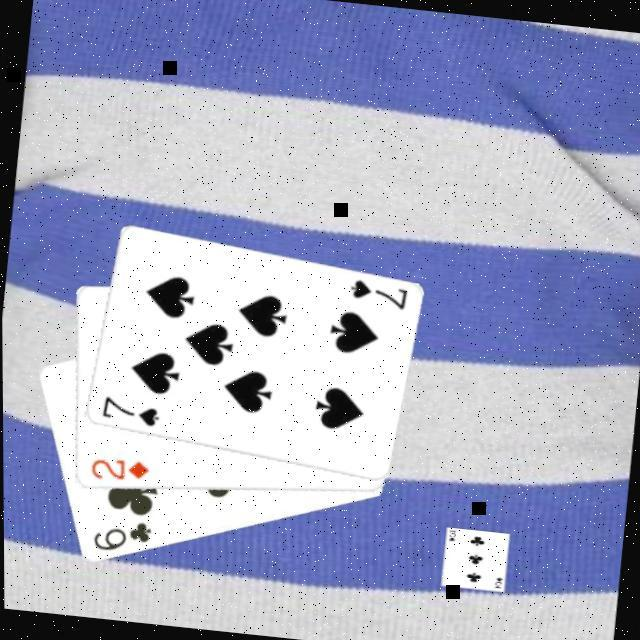2D: (86, 453, 152, 488)
6C: (88, 515, 154, 559)
7S: (97, 394, 163, 432), (344, 276, 410, 314)
